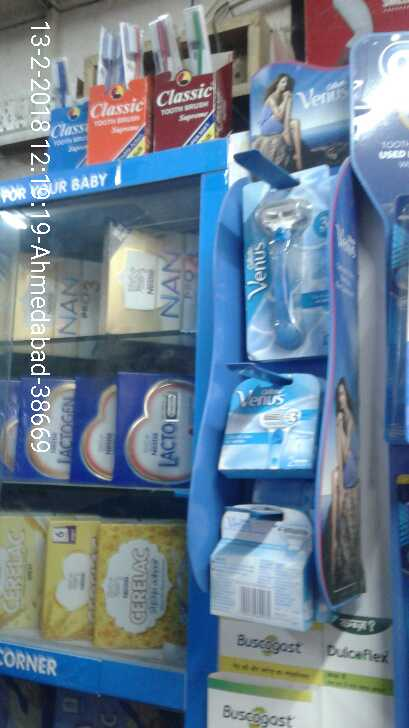venus: (241, 175, 328, 359), (205, 377, 321, 468)
